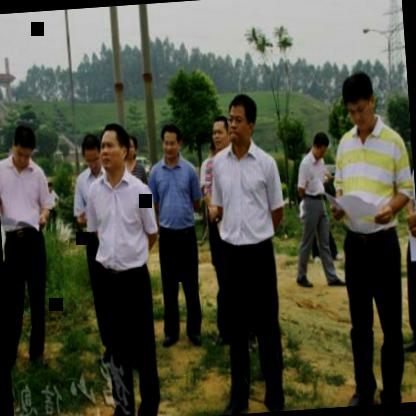head: (337, 67, 381, 136), (224, 90, 263, 149), (94, 122, 131, 172), (6, 120, 37, 170), (80, 132, 108, 176), (158, 121, 184, 163), (206, 112, 233, 152), (309, 132, 334, 160), (124, 134, 138, 164)
